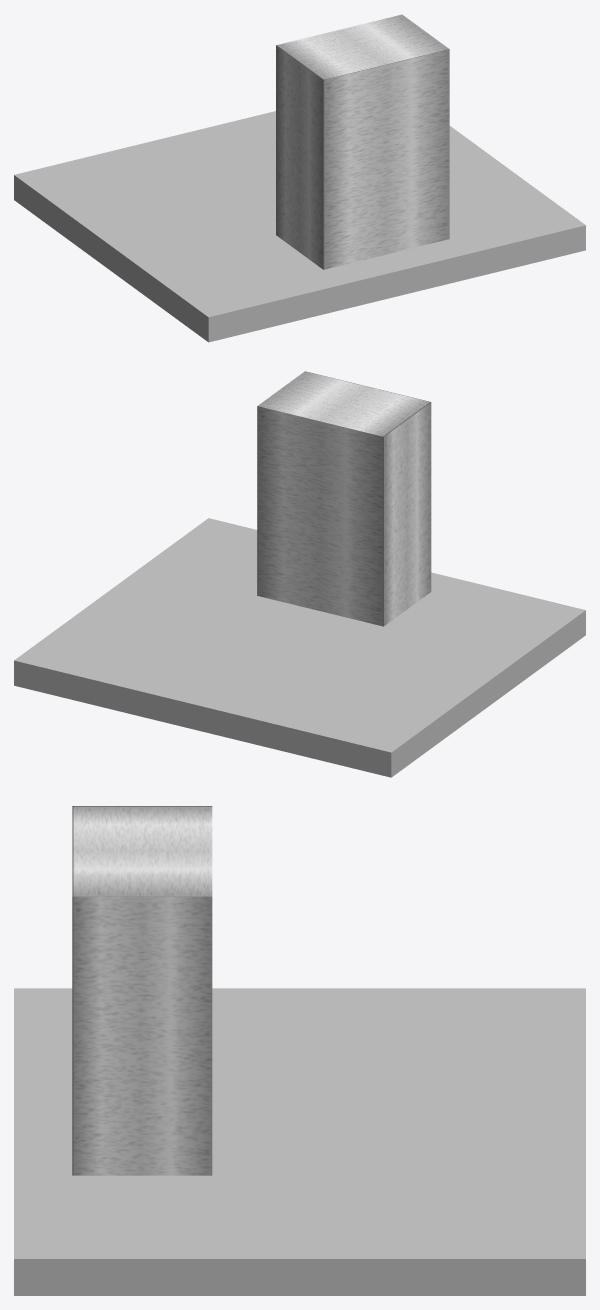
Rendered from testinggamejam2.fbx.
3 views of the same model, one above another, from view 1: azimuth 30°, elevation 25°; view 2: azimuth 150°, elevation 25°; view 3: azimuth 270°, elevation 25° (orthographic). The views are drawn at different scales.
Parts seen in each view (by area): view 1: Box001, Box002; view 2: Box001, Box002; view 3: Box001, Box002.
Part boxes in pixels (bbox=[...]): Box001: bbox=[14, 111, 585, 342]; Box002: bbox=[276, 14, 449, 269]; Box001: bbox=[14, 518, 585, 777]; Box002: bbox=[257, 371, 431, 626]; Box001: bbox=[14, 988, 585, 1295]; Box002: bbox=[72, 806, 212, 1175].
Size of the model in its own units: 64.29 by 34.99 by 57.42.
